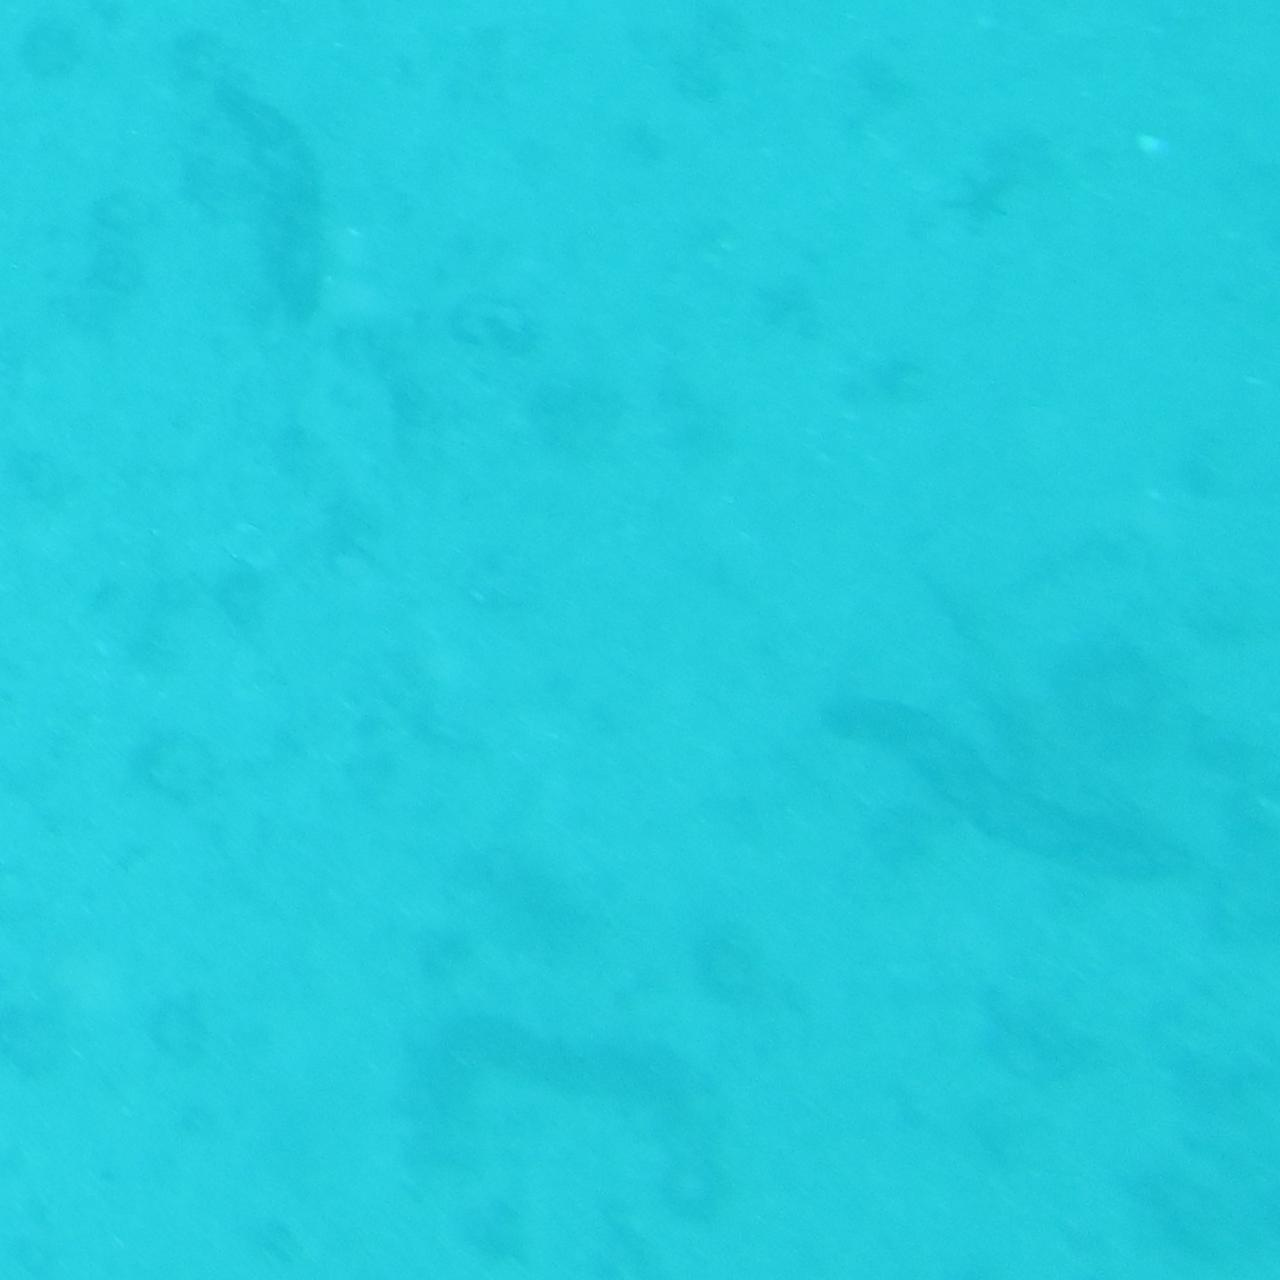Holothuria tubulosa: (817, 692, 1205, 912), (386, 1021, 730, 1228), (195, 36, 346, 366)
